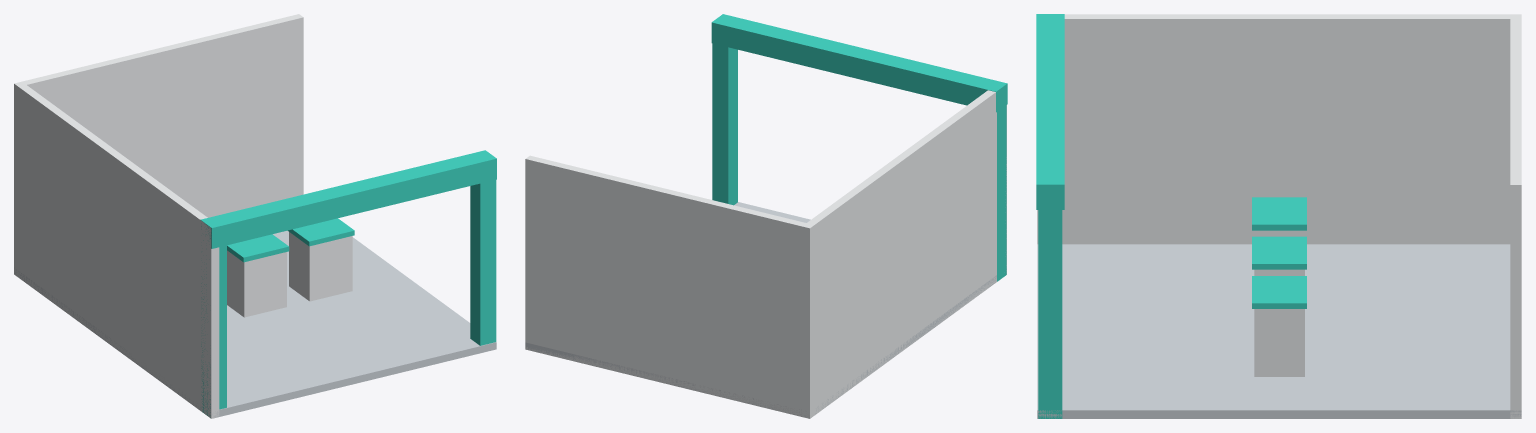
The picture shows the model from 3 angles, left to right: view 1: azimuth 30°, elevation 25°; view 2: azimuth 150°, elevation 25°; view 3: azimuth 270°, elevation 25°; orthographic projection. The views are drawn at different scales.
Parts seen in each view (by area): view 1: Exhibition Booth Concept; view 2: Exhibition Booth Concept; view 3: Exhibition Booth Concept.
Boxes of the visible parts, left/top/right/bottom form: Exhibition Booth Concept: left=14, top=14, right=496, bottom=418; Exhibition Booth Concept: left=525, top=14, right=1007, bottom=418; Exhibition Booth Concept: left=1036, top=14, right=1521, bottom=418.
Bounding box in the file's own units: 5 × 3.2 × 6.02.
